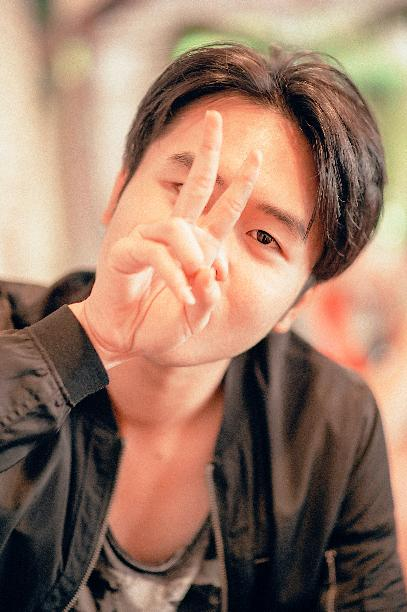Scissors: (93, 107, 266, 360)
